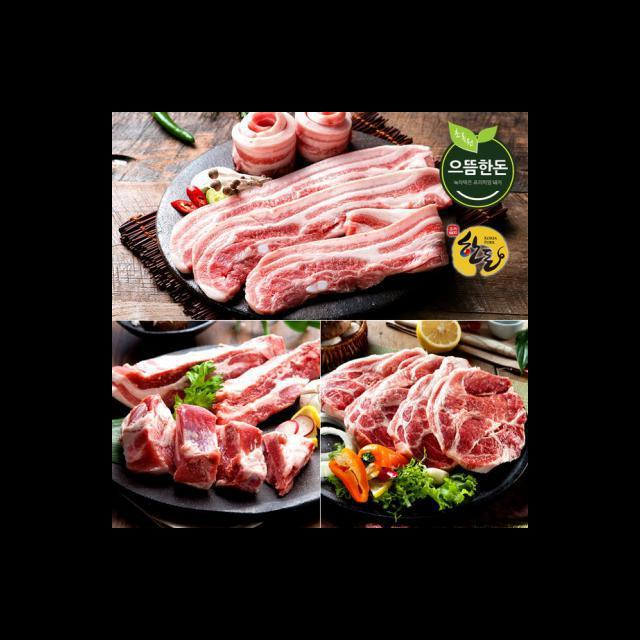pork: (186, 112, 448, 316), (112, 331, 317, 495), (320, 342, 528, 479)
